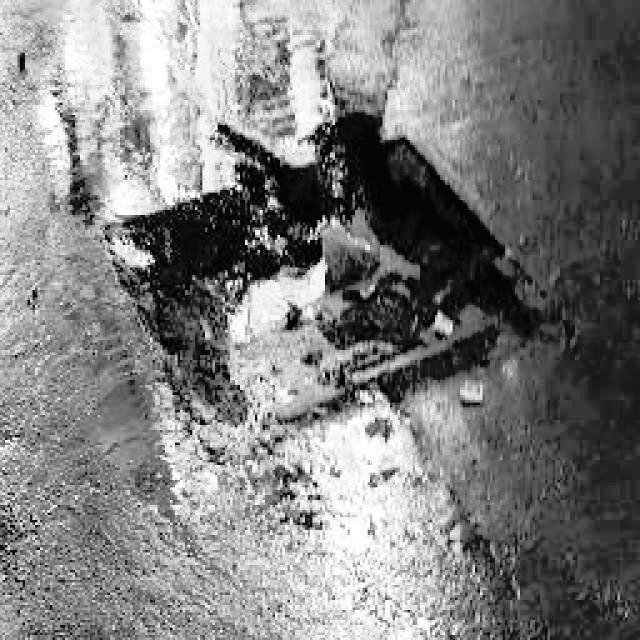Pothole: (88, 104, 569, 473)
